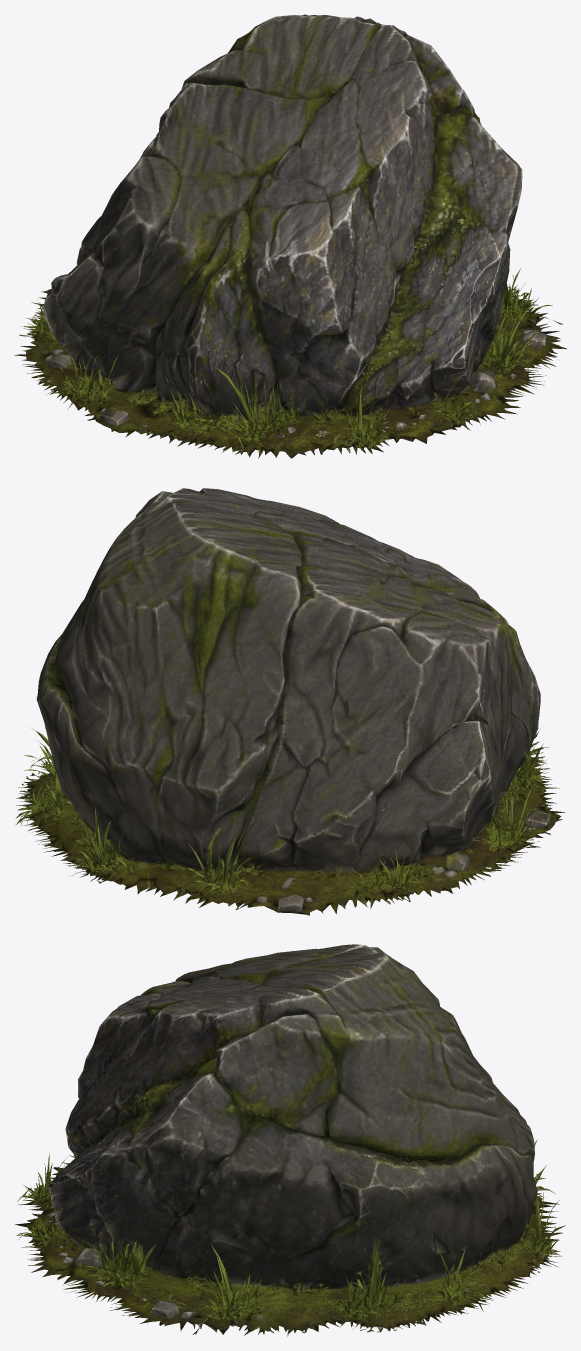
Rendered from rock_big1.glb.
3 views of the same model, one above another, from view 1: azimuth 30°, elevation 25°; view 2: azimuth 150°, elevation 25°; view 3: azimuth 270°, elevation 25° (orthographic).
Size of the model in its own units: 1.86 by 1.09 by 1.9.
Materials: 1 (1 with a texture image).
